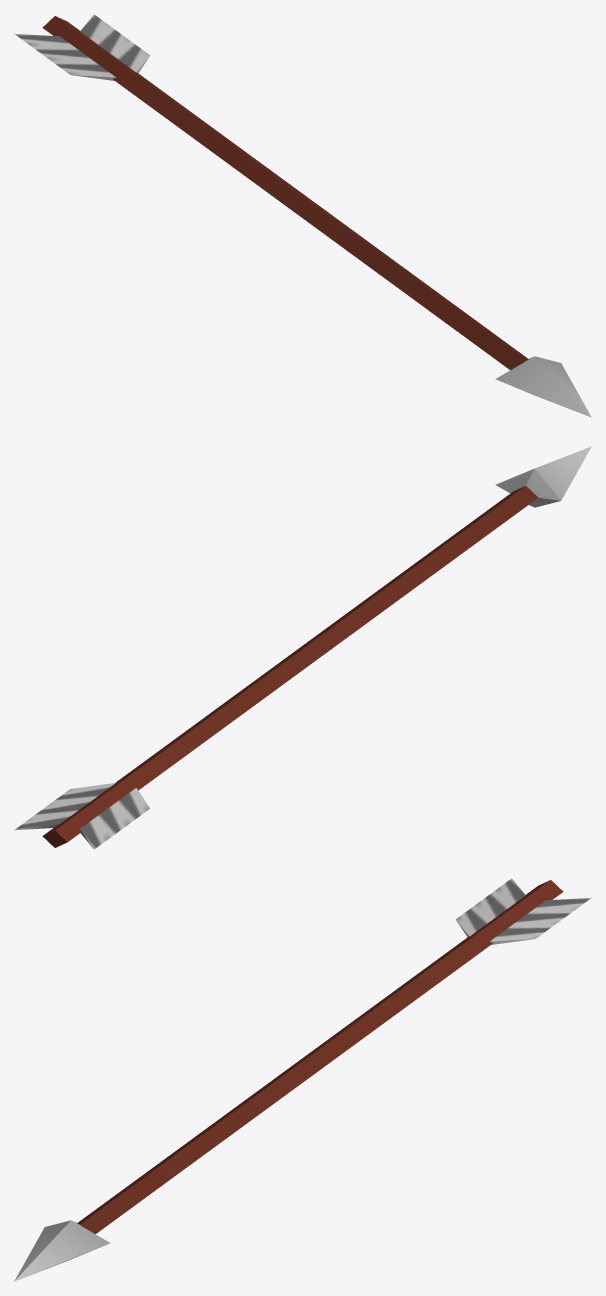
Rendered from ArrowBasic.glb.
The picture shows the model from 3 angles, top to bottom: view 1: azimuth 30°, elevation 25°; view 2: azimuth 150°, elevation 25°; view 3: azimuth 330°, elevation 25°; orthographic projection.
Visible parts, largest first — view 1: ArrowBasic; view 2: ArrowBasic; view 3: ArrowBasic.
Boxes of the visible parts, x1=… form: ArrowBasic: x1=14, y1=14, x2=591, y2=417; ArrowBasic: x1=14, y1=446, x2=591, y2=849; ArrowBasic: x1=14, y1=878, x2=591, y2=1281.
Size of the model in its own units: 0.0669 by 0.0314 by 0.7788.
Materials: 1 (1 with a texture image).
